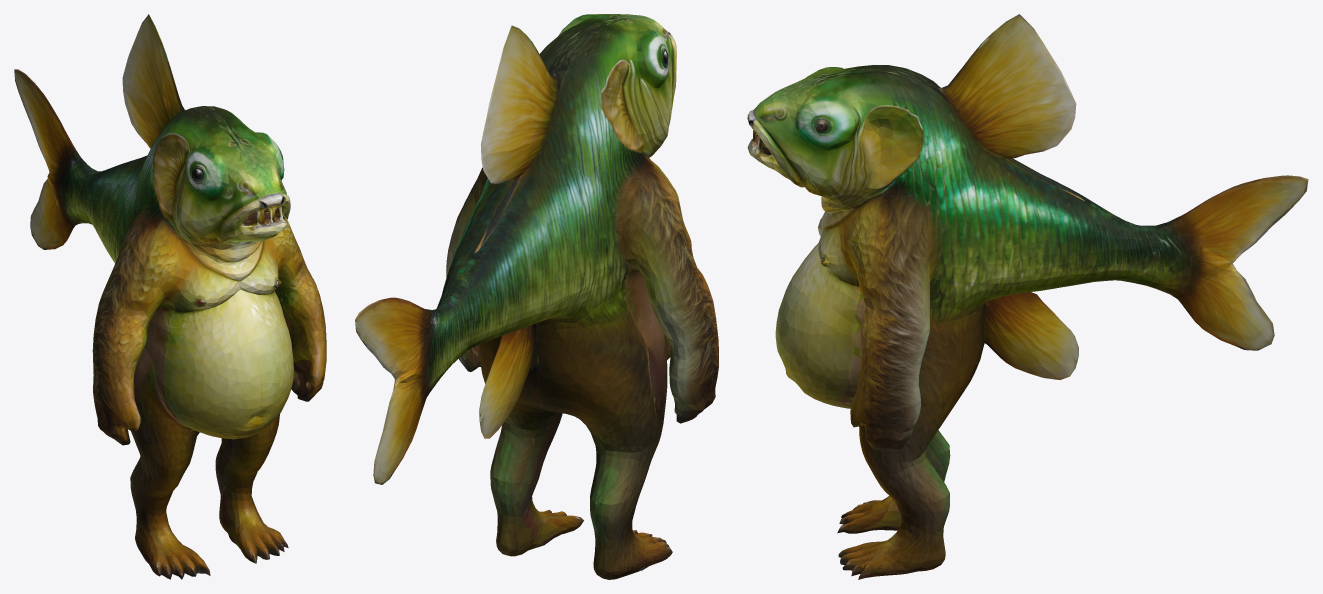
The model's file is tripi_tropi_tropa_tripa.glb.
3 renders of one model, left to right at view 1: azimuth 30°, elevation 25°; view 2: azimuth 150°, elevation 25°; view 3: azimuth 270°, elevation 25°, orthographic. The views are drawn at different scales.
Visible parts, largest first — view 1: temp; view 2: temp; view 3: temp.
Boxes of the visible parts, x1,y1,x2,y2 form: temp: [14, 14, 326, 579]; temp: [355, 14, 718, 579]; temp: [747, 14, 1308, 579].
Size of the model in its own units: 0.9342 by 1.99 by 1.91.
Materials: 1 (1 with a texture image).
